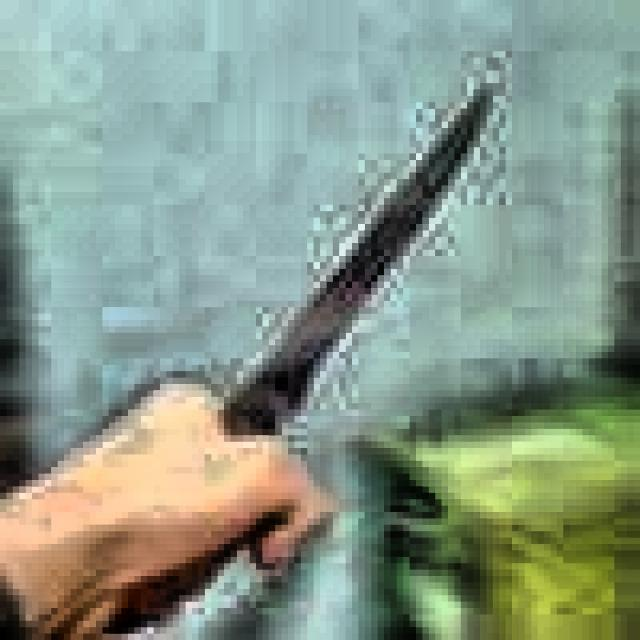knife: (99, 86, 497, 629)
